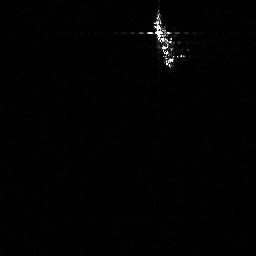ship: (148, 9, 183, 71)
